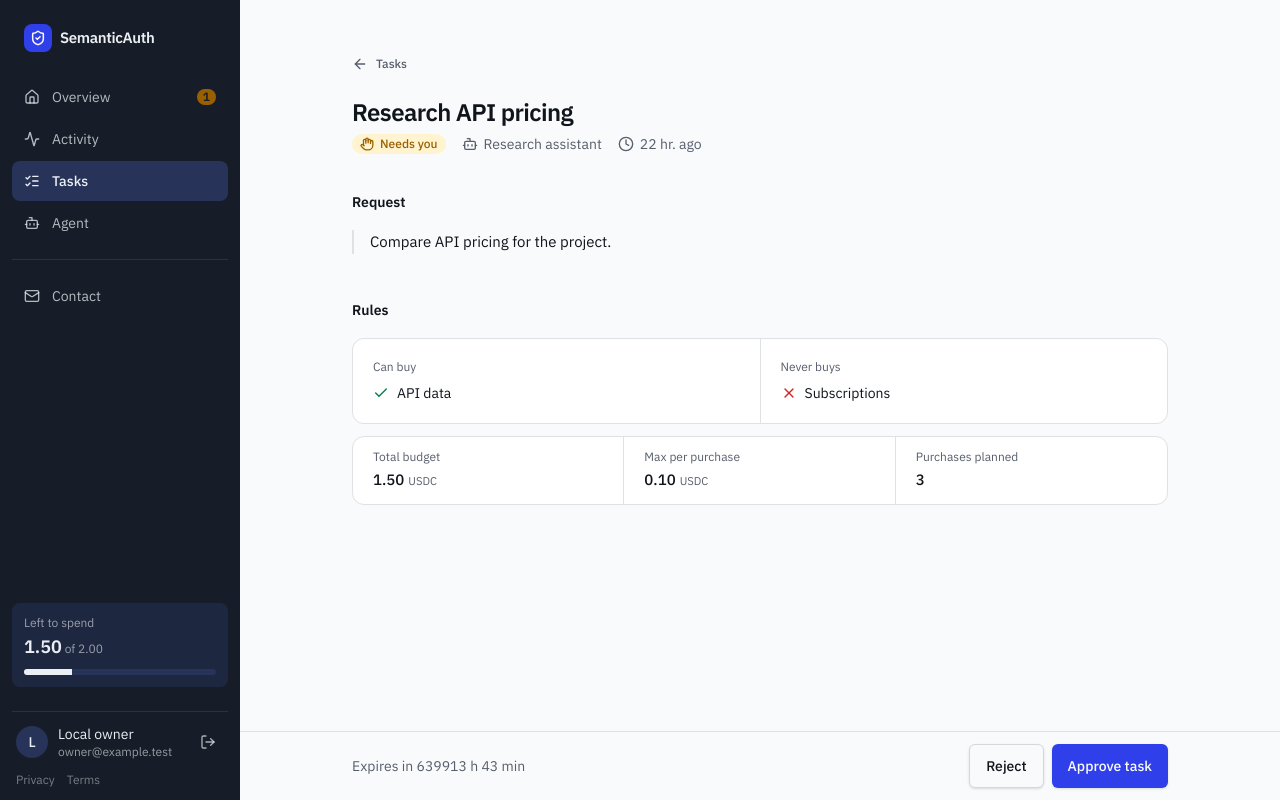
Scenario: sign-in and session › clears owner data immediately when an approval loses its session
Click the button "Approve task": coordinates (1110, 766) left=1052, top=744, right=1168, bottom=788
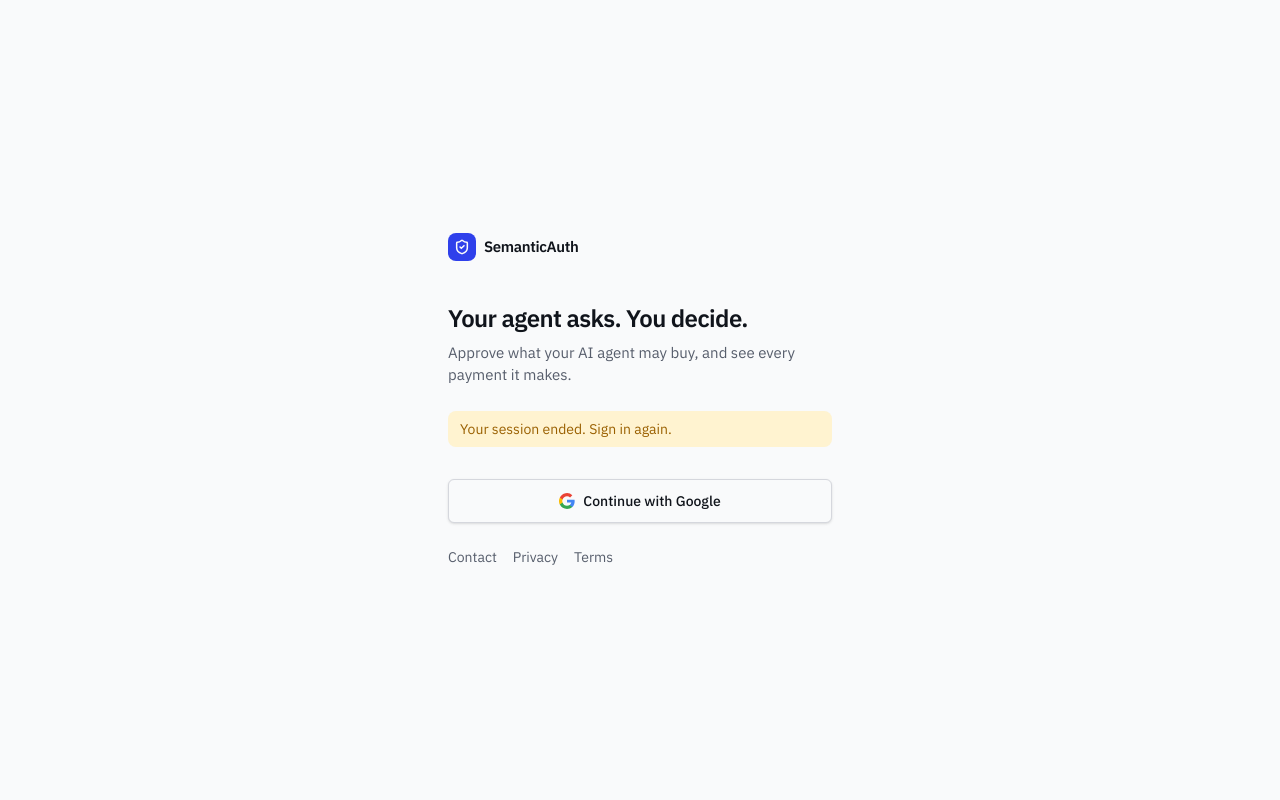
Now the link "Continue with Google" is shown, box left=448, top=479, right=832, bottom=523
